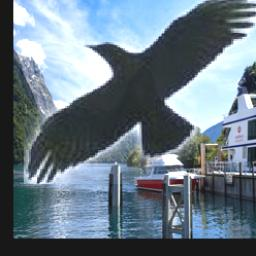Crow: (24, 0, 256, 185)
